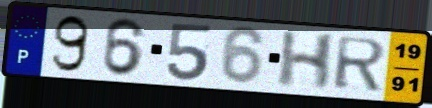5: (164, 22, 215, 82)
6: (217, 24, 271, 89), (101, 16, 147, 79)
9: (49, 13, 92, 74)
H: (275, 30, 339, 92)
R: (331, 35, 390, 93)
